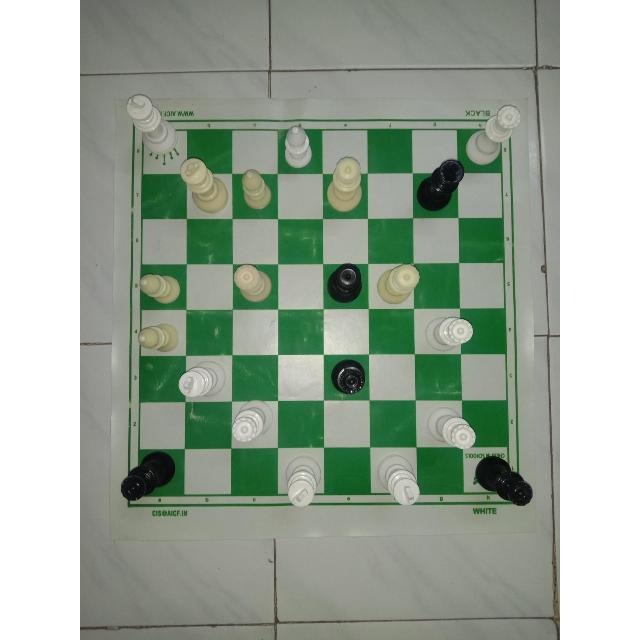black-king: (412, 158, 468, 213)
black-queen: (117, 448, 187, 502), (473, 450, 537, 506), (321, 260, 366, 302), (329, 354, 373, 395)
white-bishop: (138, 266, 186, 308), (136, 319, 187, 357), (241, 160, 277, 212), (280, 119, 315, 169)
white-king: (124, 90, 180, 154), (180, 154, 233, 215), (375, 453, 423, 508), (284, 448, 326, 510), (177, 356, 231, 402)
white-queen: (464, 103, 524, 167), (421, 404, 479, 450), (325, 154, 367, 214), (231, 395, 279, 446), (423, 311, 474, 358), (370, 261, 422, 307), (231, 260, 277, 308)
